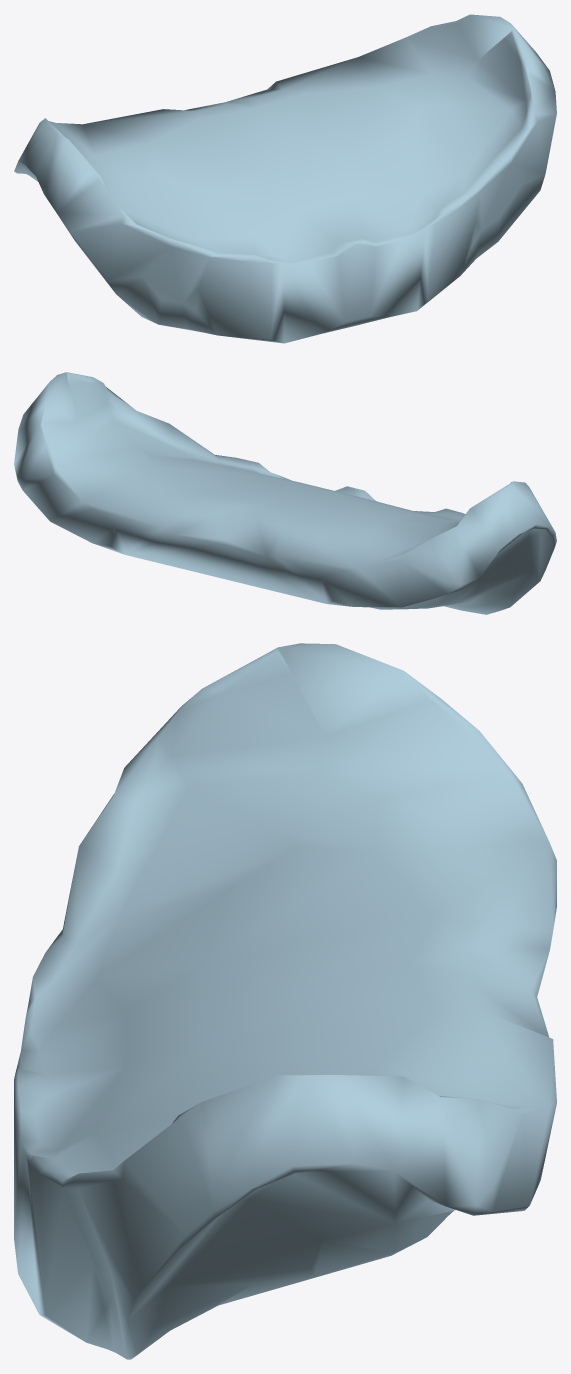
File: articulacoes-intervertebral-disc-c5-c6.glb
3 views of the same model, one above another, from view 1: azimuth 30°, elevation 25°; view 2: azimuth 150°, elevation 25°; view 3: azimuth 270°, elevation 25° (orthographic). The views are drawn at different scales.
Visible parts, largest first — view 1: Intervertebral disc C5-C6; view 2: Intervertebral disc C5-C6; view 3: Intervertebral disc C5-C6.
Boxes of the visible parts, x1,y1,x2,y2 form: Intervertebral disc C5-C6: (14,14,556,343); Intervertebral disc C5-C6: (14,372,556,614); Intervertebral disc C5-C6: (14,643,556,1359).
Bounding box in the file's own units: 0.0313 × 0.0118 × 0.0148.
